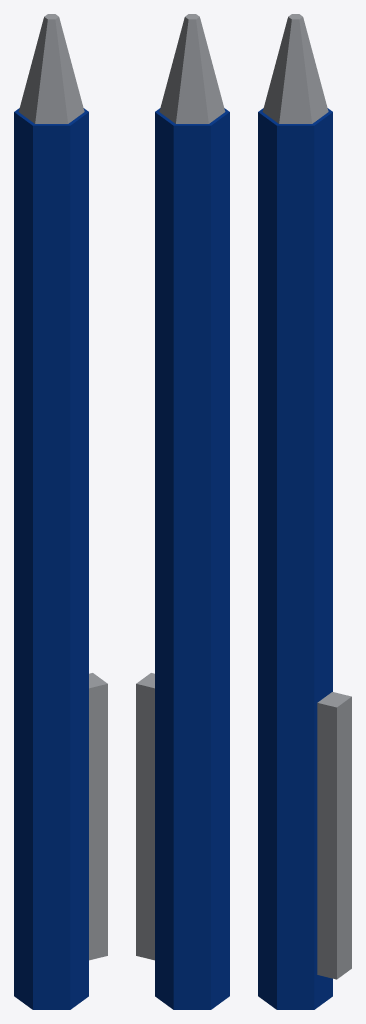
File: SM_Flot_Lapicera.fbx
3 renders of one model, left to right at view 1: azimuth 30°, elevation 25°; view 2: azimuth 150°, elevation 25°; view 3: azimuth 330°, elevation 25°, orthographic.
Parts seen in each view (by area): view 1: SM_Flot_Lapicera; view 2: SM_Flot_Lapicera; view 3: SM_Flot_Lapicera.
Part boxes in pixels (bbox=[...]): SM_Flot_Lapicera: bbox=[14, 14, 107, 1009]; SM_Flot_Lapicera: bbox=[136, 14, 229, 1009]; SM_Flot_Lapicera: bbox=[258, 14, 351, 1009].
Size of the model in its own units: 0.0118 by 0.144 by 0.01.
